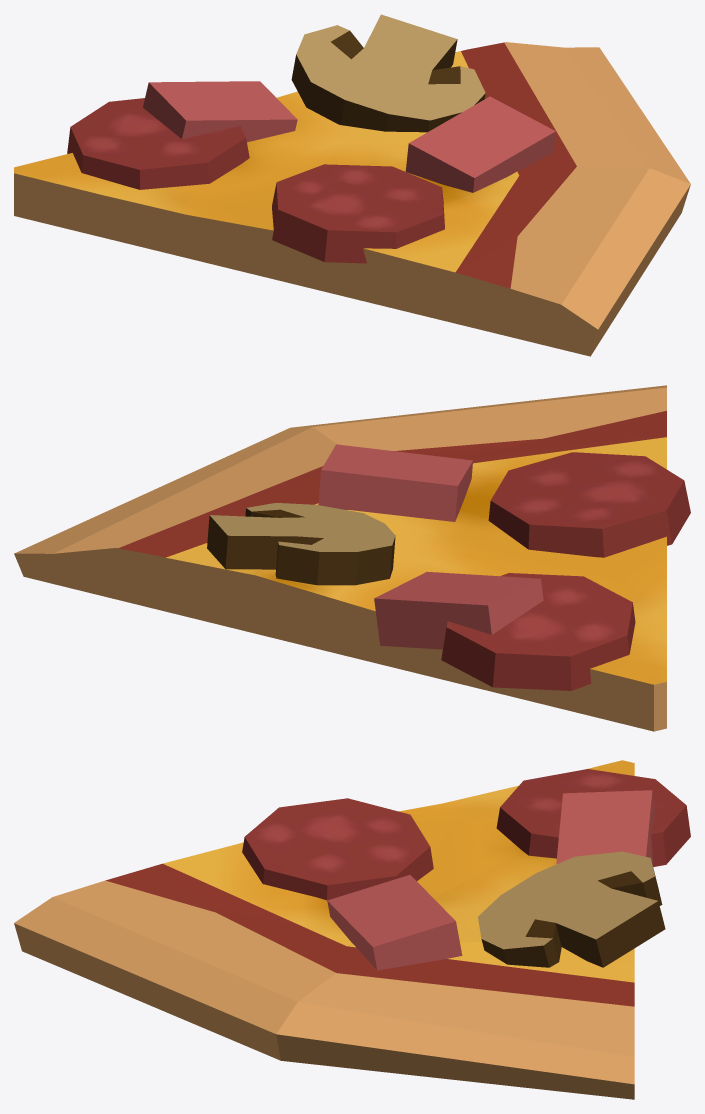
File: SM_Prop_Food_Pizza_Cooked_08.06.obj
The picture shows the model from 3 angles, top to bottom: view 1: azimuth 30°, elevation 25°; view 2: azimuth 150°, elevation 25°; view 3: azimuth 270°, elevation 25°; orthographic projection. The views are drawn at different scales.
Parts seen in each view (by area): view 1: SM_Prop_Food_Pizza_Cooked_08.06_0; view 2: SM_Prop_Food_Pizza_Cooked_08.06_0; view 3: SM_Prop_Food_Pizza_Cooked_08.06_0.
Part boxes in pixels (left/top/right/bottom): SM_Prop_Food_Pizza_Cooked_08.06_0: left=14, top=14, right=690, bottom=356; SM_Prop_Food_Pizza_Cooked_08.06_0: left=14, top=385, right=690, bottom=731; SM_Prop_Food_Pizza_Cooked_08.06_0: left=14, top=760, right=690, bottom=1099.
Size of the model in its own units: 0.2879 by 0.0453 by 0.2741.
Materials: 1 (1 with a texture image).
